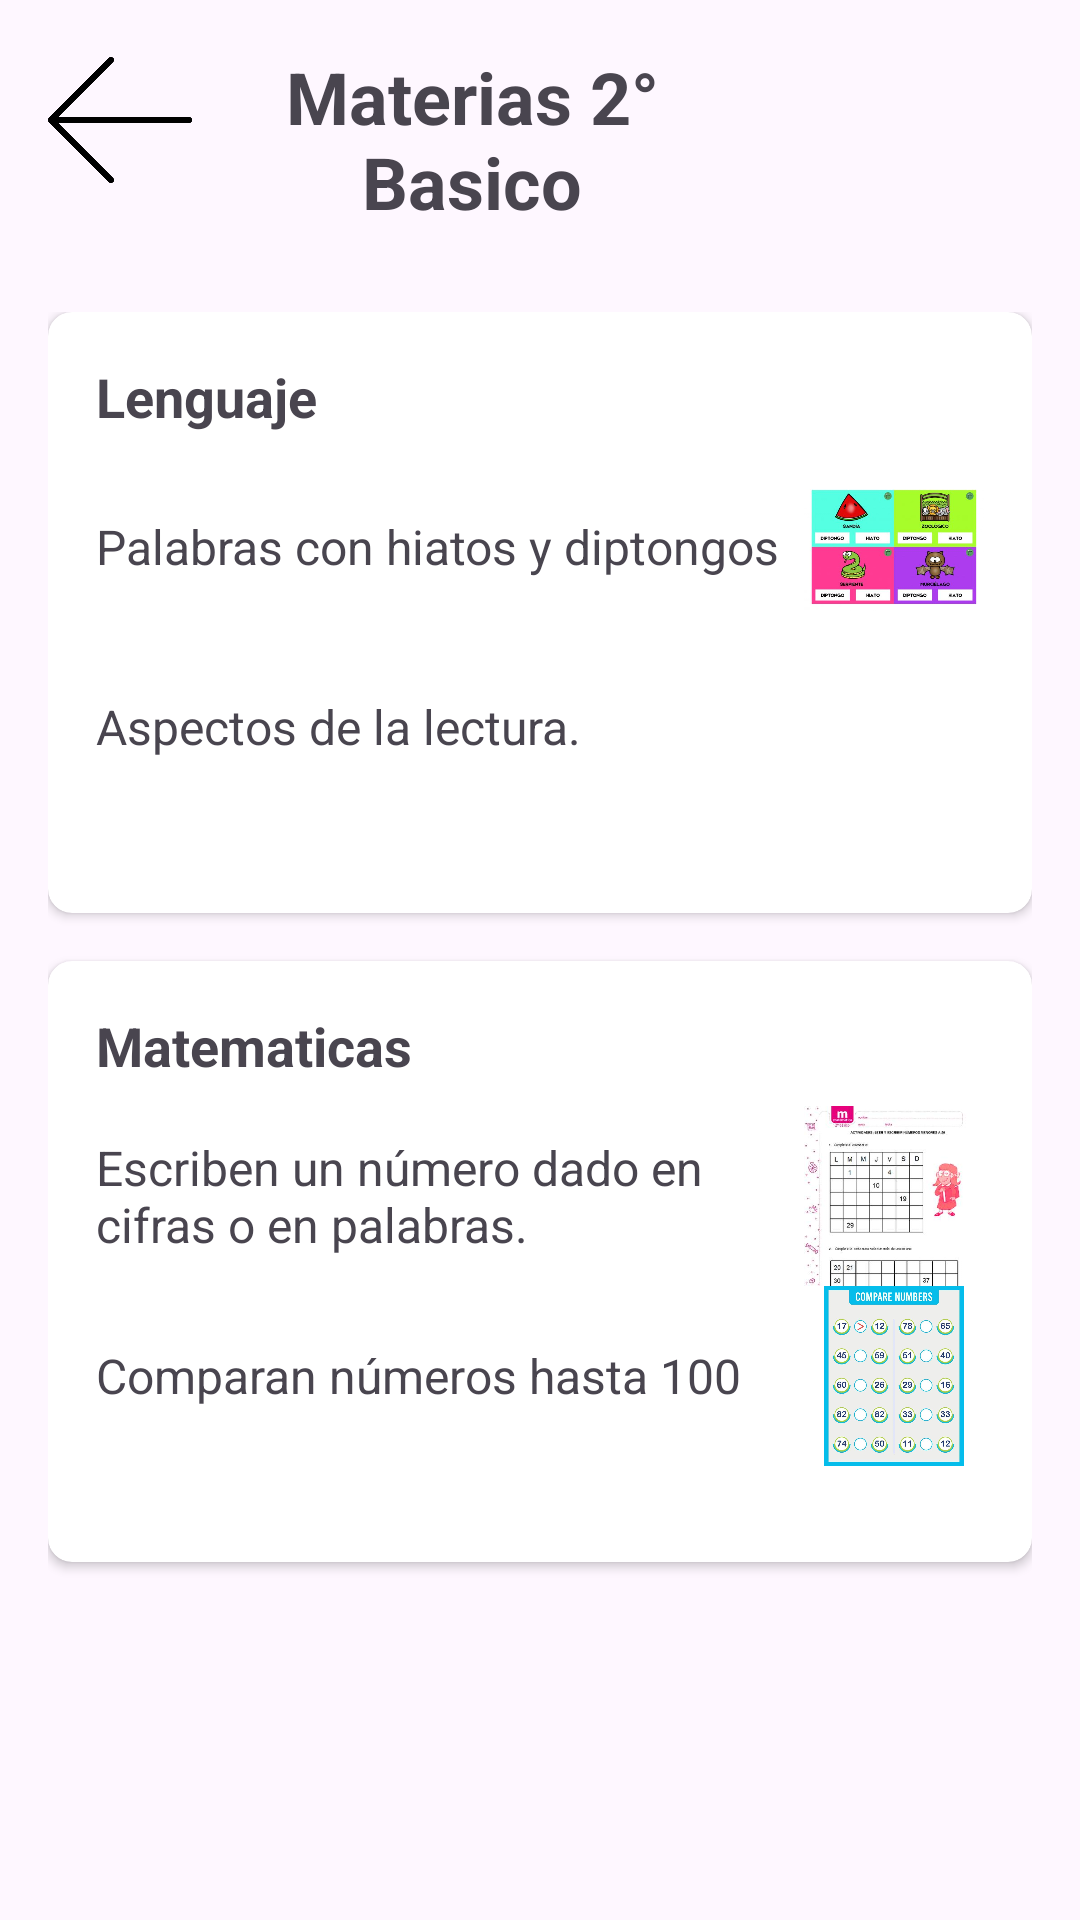

Screen size 1080px x 1920px. Icon name, then its box in pixels as (x1, y1, x2, y2):
Botón de volver: (48, 57, 192, 183)
ceroaciensegundo: (824, 1286, 964, 1466)
numerossegundo: (805, 1106, 963, 1286)
